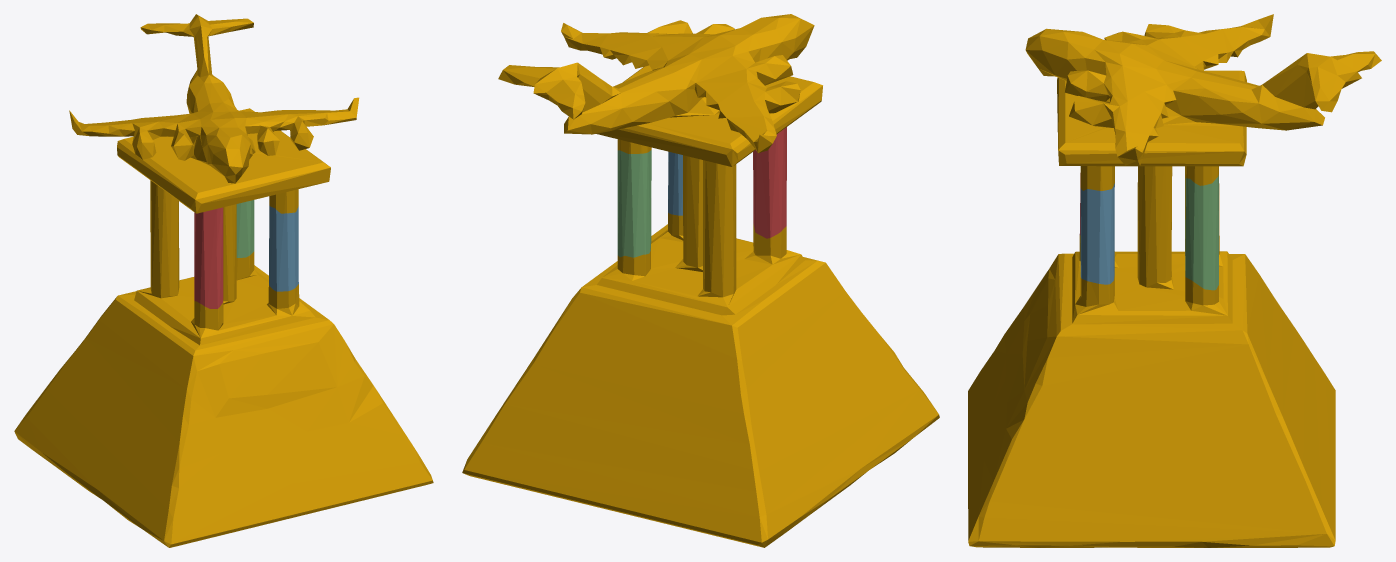
The model's file is fractured_79_4pcs.glb.
3 views of the same model, side by side, from view 1: azimuth 30°, elevation 25°; view 2: azimuth 150°, elevation 25°; view 3: azimuth 270°, elevation 25° (orthographic). The views are drawn at different scales.
Visible parts, largest first — view 1: piece_0.obj, piece_1.obj, piece_2.obj, piece_3.obj; view 2: piece_0.obj, piece_3.obj, piece_1.obj, piece_2.obj; view 3: piece_0.obj, piece_3.obj, piece_2.obj.
Boxes of the visible parts, left/top/right/bottom form: piece_0.obj: left=14, top=14, right=433, bottom=547; piece_1.obj: left=194, top=207, right=223, bottom=308; piece_2.obj: left=269, top=206, right=298, bottom=291; piece_3.obj: left=236, top=200, right=254, bottom=257; piece_0.obj: left=462, top=14, right=939, bottom=547; piece_3.obj: left=617, top=150, right=651, bottom=257; piece_1.obj: left=753, top=127, right=786, bottom=238; piece_2.obj: left=668, top=151, right=682, bottom=215; piece_0.obj: left=968, top=14, right=1381, bottom=547; piece_3.obj: left=1185, top=175, right=1218, bottom=290; piece_2.obj: left=1080, top=183, right=1114, bottom=284.
Bounding box in the file's own units: 0.7429 × 0.9999 × 0.8403.
